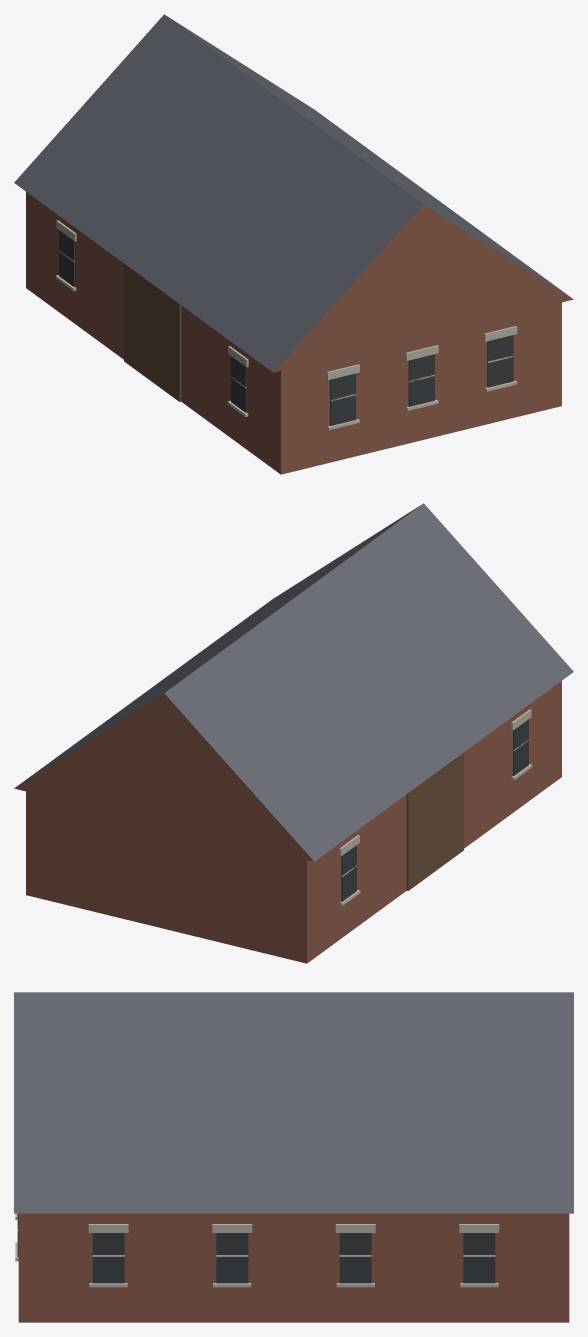
Rendered from elbridge_keith_house_1900_prairie_coach_house__draft_1904.glb.
3 renders of one model, top to bottom at view 1: azimuth 30°, elevation 25°; view 2: azimuth 150°, elevation 25°; view 3: azimuth 270°, elevation 25°, orthographic. The views are drawn at different scales.
Parts seen in each view (by area): view 1: elbridge_keith_house_1900_prairie_coach_house__draft_1904; view 2: elbridge_keith_house_1900_prairie_coach_house__draft_1904; view 3: elbridge_keith_house_1900_prairie_coach_house__draft_1904.
Part boxes in pixels (x1,y1,x2,y2): elbridge_keith_house_1900_prairie_coach_house__draft_1904: [14, 14, 573, 474]; elbridge_keith_house_1900_prairie_coach_house__draft_1904: [14, 503, 573, 963]; elbridge_keith_house_1900_prairie_coach_house__draft_1904: [14, 992, 573, 1322].
Bounding box in the file's own units: 9.35 × 7.07 × 13.99.
